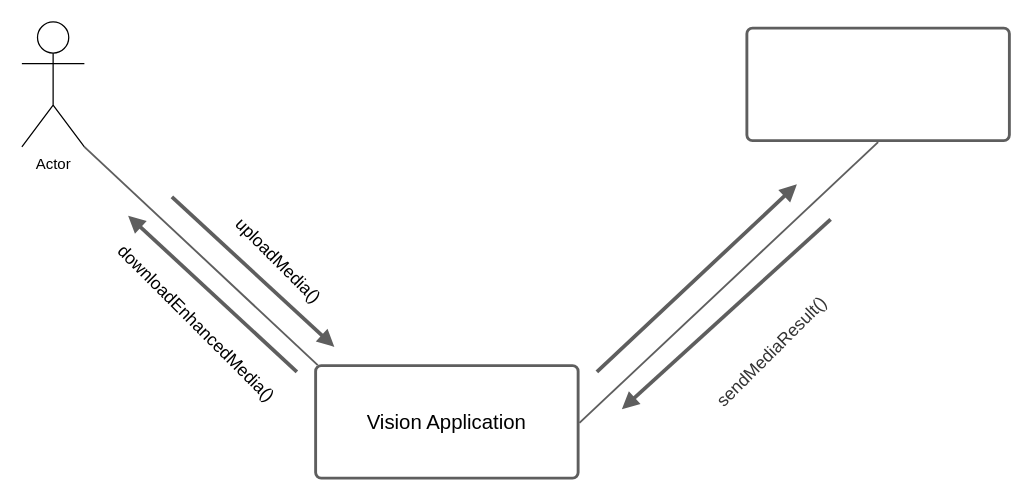
The diagram is 1033 pixels wide and 501 high, and some of its shapes have lost their labels. The shapes that lost their labels are listed below. From the top down, each one's centre as x and y in pixels, then its label:
(x=877, y=84): Vision Server
(x=665, y=261): uploadMediaToServer()
